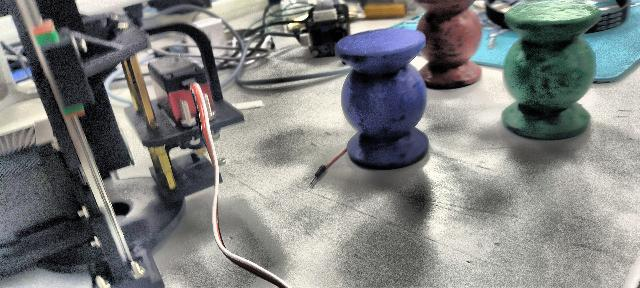blue: (335, 28, 429, 170)
green: (501, 1, 601, 142)
red: (416, 0, 484, 93)
